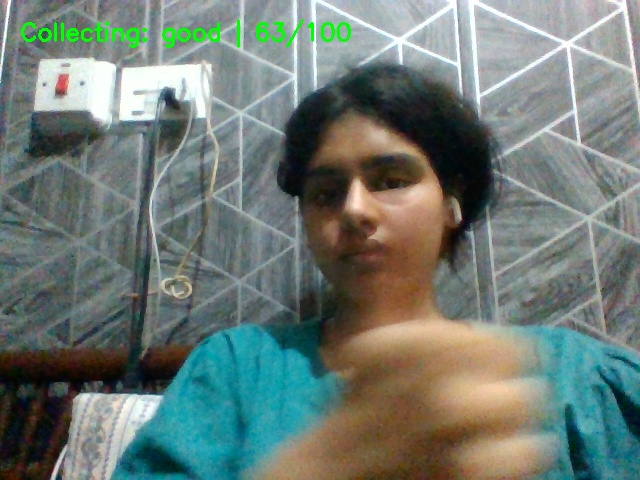good: (303, 170, 606, 480)
